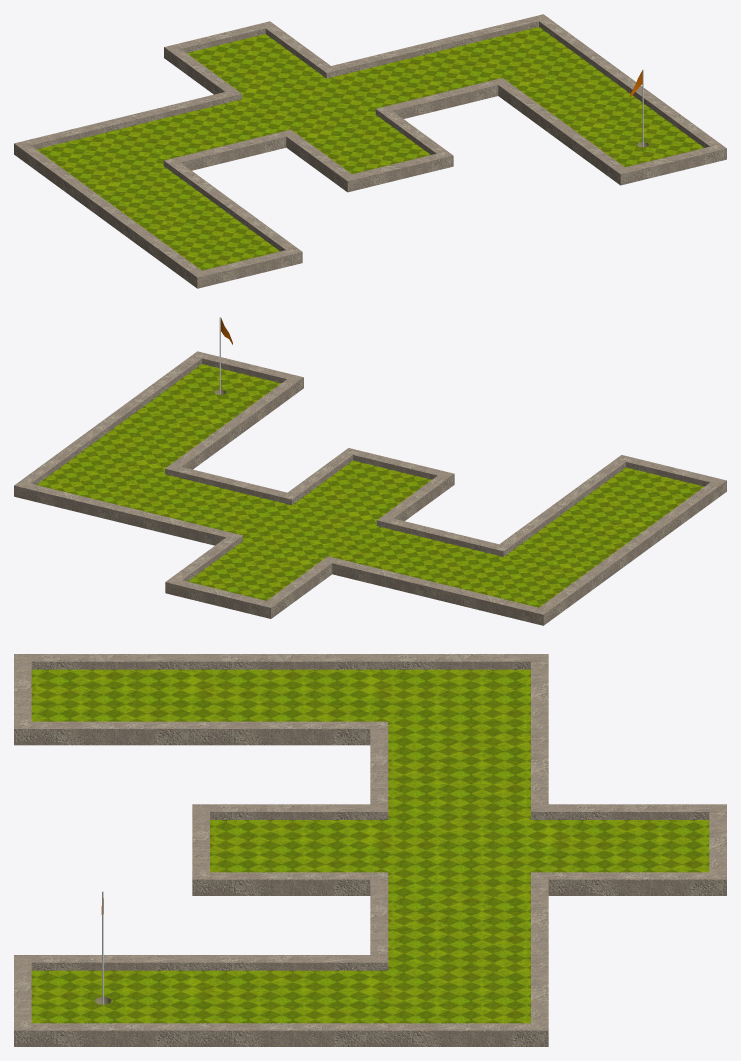
The model's file is course4_hole9.fbx.
The picture shows the model from 3 angles, top to bottom: view 1: azimuth 30°, elevation 25°; view 2: azimuth 150°, elevation 25°; view 3: azimuth 270°, elevation 25°; orthographic projection. The views are drawn at different scales.
Parts seen in each view (by area): view 1: course4_hole9_ground, course4_hole9_walls; view 2: course4_hole9_ground, course4_hole9_walls; view 3: course4_hole9_ground, course4_hole9_walls.
Part boxes in pixels (x1=…): course4_hole9_ground: x1=36, y1=27, x2=703, y2=270; course4_hole9_walls: x1=14, y1=14, x2=726, y2=288; course4_hole9_ground: x1=37, y1=364, x2=704, y2=607; course4_hole9_walls: x1=14, y1=351, x2=726, y2=625; course4_hole9_ground: x1=31, y1=669, x2=709, y2=1023; course4_hole9_walls: x1=14, y1=654, x2=726, y2=1046.
Size of the model in its own units: 500 by 75.04 by 400.
